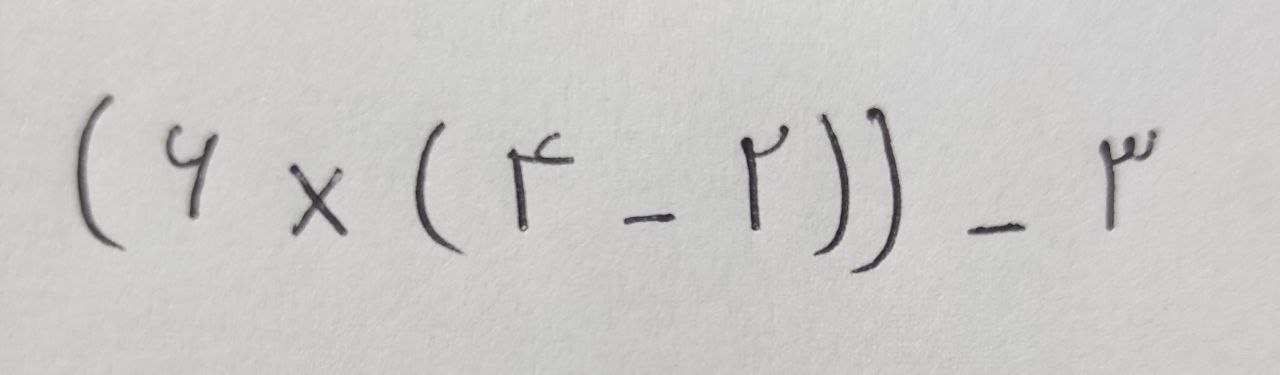character: (851, 104, 904, 274), (76, 95, 127, 251), (415, 122, 467, 258), (508, 130, 577, 232), (164, 122, 222, 220), (1100, 130, 1156, 231), (814, 112, 851, 257), (740, 125, 788, 232), (285, 164, 348, 236), (970, 224, 1027, 238), (621, 213, 678, 226)
